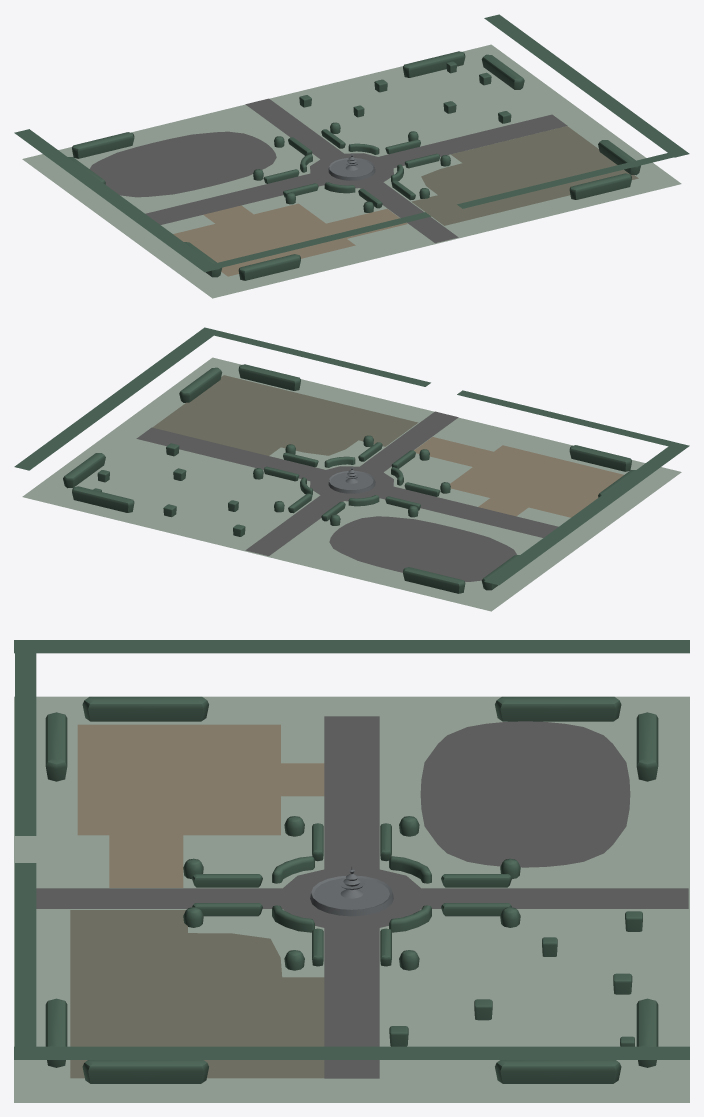
File: maptest.fbx
3 renders of one model, top to bottom at view 1: azimuth 30°, elevation 25°; view 2: azimuth 150°, elevation 25°; view 3: azimuth 270°, elevation 25°, orthographic. The views are drawn at different scales.
Parts seen in each view (by area): view 1: pPlane12, pPlane10, pCube37, pDisc2, pPlane11, pPlane9, polySurface77, pPlane8, polySurface76, pCube40, pCylinder3, pCube38 (+3 smaller); view 2: pPlane12, pPlane10, pCube37, pPlane11, pDisc2, pPlane9, polySurface77, pPlane8, polySurface76, pCube40, pCylinder3, pCube38 (+3 smaller); view 3: pPlane12, pPlane10, pCube37, pPlane11, pDisc2, pPlane9, polySurface76, pPlane8, polySurface77, pCube38, pCylinder3, pCube46 (+3 smaller).
Boxes of the visible parts, x1,y1,x2,y2 form: pPlane12: (22, 44, 681, 298); pPlane10: (411, 126, 638, 225); pCube37: (145, 98, 567, 243); pDisc2: (90, 131, 276, 197); pPlane11: (173, 203, 407, 276); pPlane9: (14, 14, 689, 272); polySurface77: (72, 51, 631, 280); pPlane8: (213, 152, 674, 268); polySurface76: (68, 54, 640, 277); pCube40: (263, 139, 440, 197); pCylinder3: (328, 154, 375, 180); pCube38: (288, 129, 415, 208); pPlane12: (22, 357, 681, 611); pPlane10: (152, 375, 418, 455); pCube37: (136, 411, 558, 555); pPlane11: (414, 437, 623, 517); pDisc2: (329, 516, 516, 581); pPlane9: (14, 327, 689, 585); polySurface77: (72, 364, 631, 593); pPlane8: (213, 331, 674, 446); polySurface76: (63, 367, 635, 590); pCube40: (263, 452, 440, 510); pCylinder3: (328, 467, 375, 493); pCube38: (288, 442, 415, 521); pPlane12: (14, 696, 689, 1102); pPlane10: (70, 910, 324, 1078); pCube37: (36, 716, 688, 1078); pPlane11: (77, 724, 324, 887); pDisc2: (420, 721, 630, 867); pPlane9: (14, 640, 689, 1059); polySurface76: (82, 696, 621, 1083); pPlane8: (15, 652, 36, 1046); polySurface77: (45, 712, 658, 1067); pCube38: (192, 874, 511, 916); pCylinder3: (310, 867, 393, 916); pCube46: (272, 856, 431, 932).
Size of the model in its own units: 9382 by 528 by 6384.
